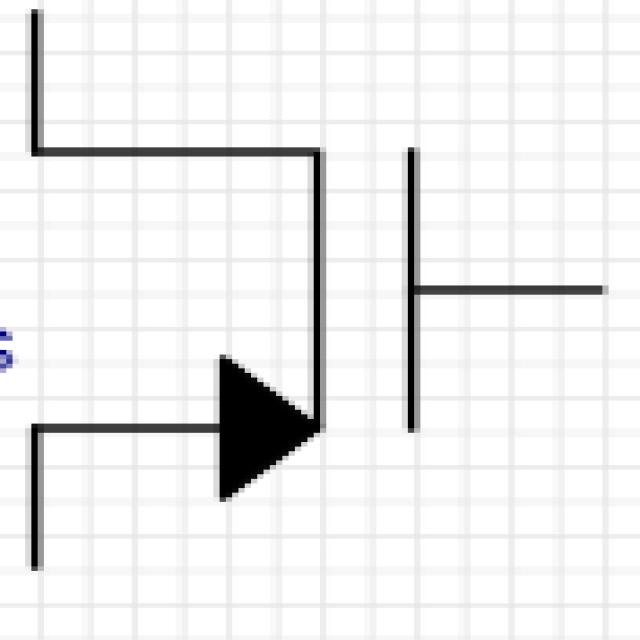pmos: (9, 12, 590, 561)
